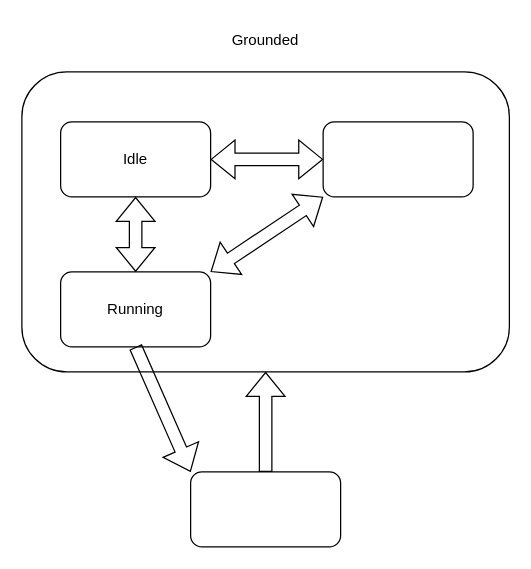
Image size: 531x569. Some labels were removed from this diagram. The shapes that lost their labels are listed below. From the top down, each one's centre as x and y in pixels, then its label:
At pixel 397 159: "Moving".
At pixel 265 509: "Sliding".
